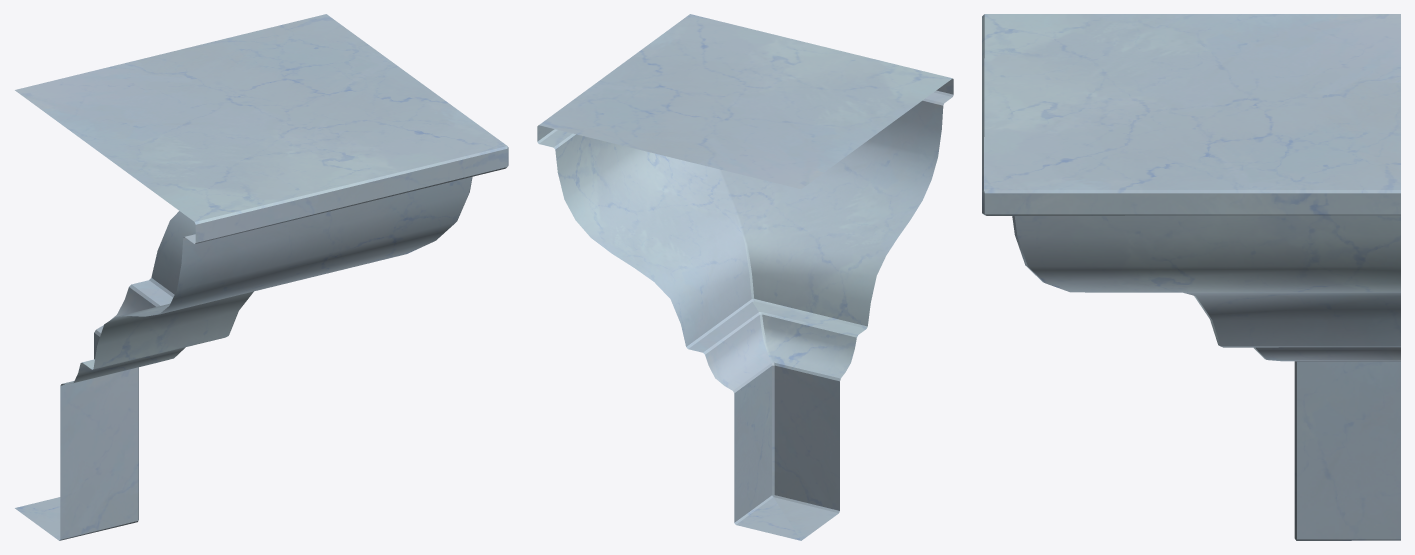
File: Roof bas-relief corner.fbx
3 renders of one model, left to right at view 1: azimuth 30°, elevation 25°; view 2: azimuth 150°, elevation 25°; view 3: azimuth 270°, elevation 25°, orthographic. The views are drawn at different scales.
Visible parts, largest first — view 1: Roof bas-relief corner; view 2: Roof bas-relief corner; view 3: Roof bas-relief corner.
Boxes of the visible parts, <box> form: Roof bas-relief corner: <box>15,14,508,540</box>; Roof bas-relief corner: <box>537,14,953,540</box>; Roof bas-relief corner: <box>982,14,1400,540</box>.
Bounding box in the file's own units: 82.35 × 105 × 82.35.
